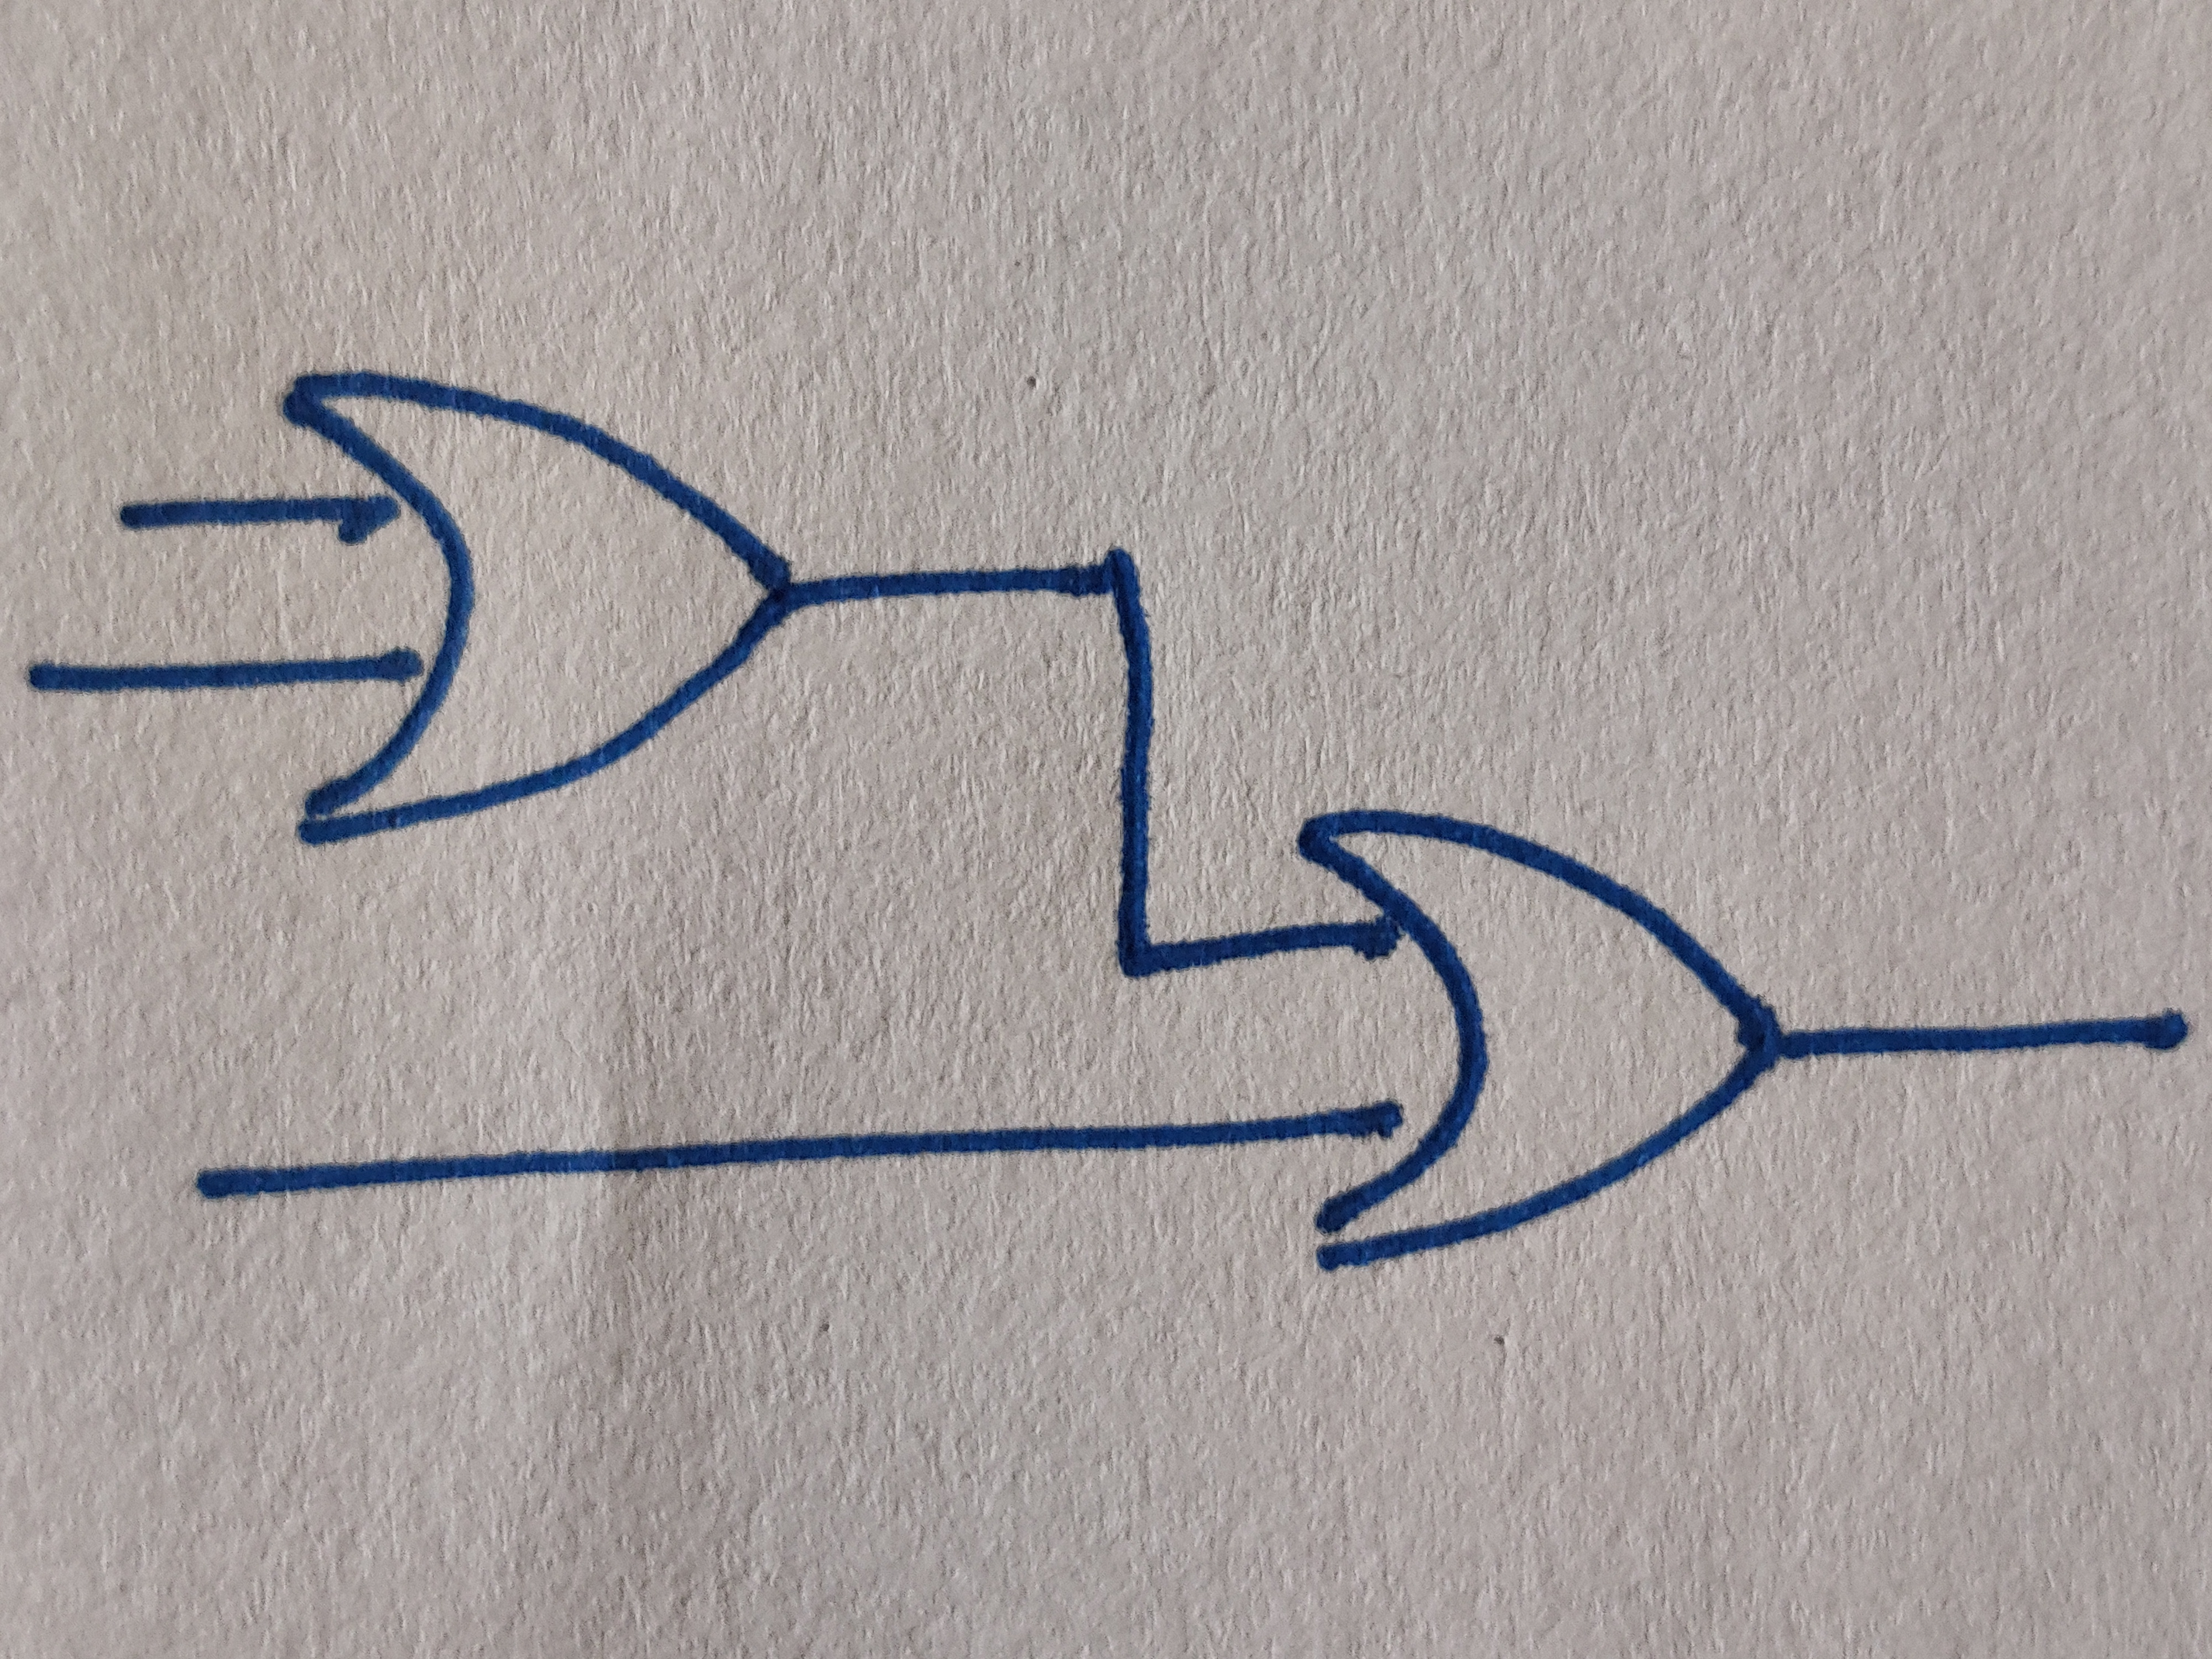or: (282, 373, 789, 847), (1296, 810, 1784, 1272)
